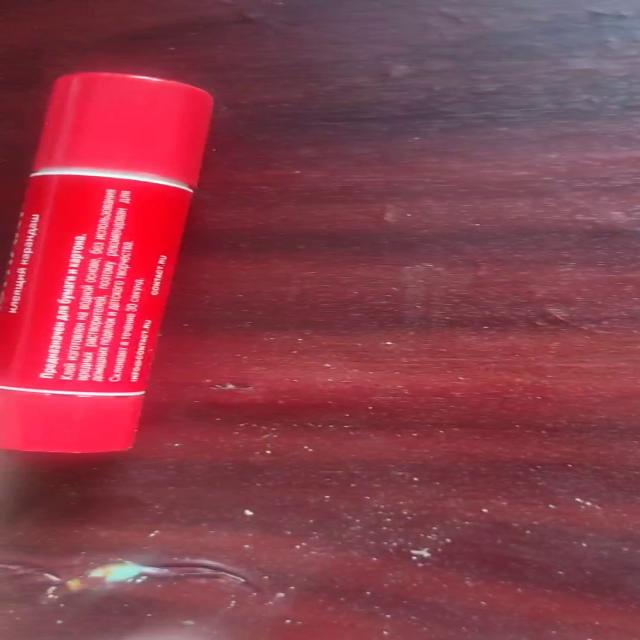glue: (1, 70, 214, 454)
